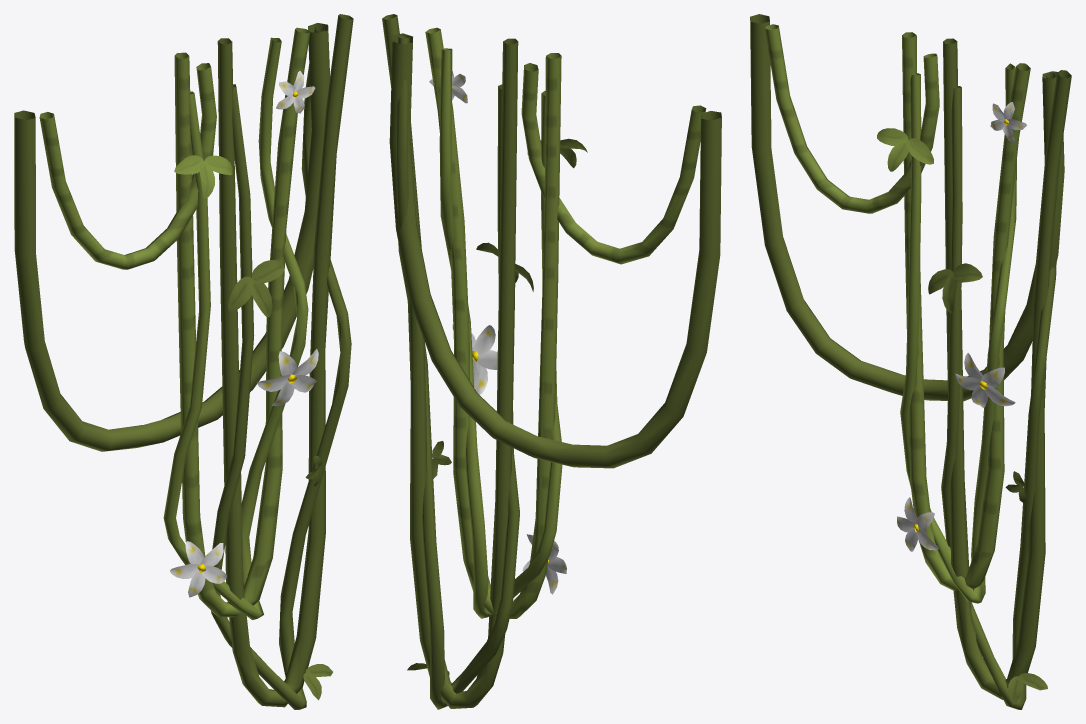
Rendered from Vine02.fbx.
3 views of the same model, side by side, from view 1: azimuth 30°, elevation 25°; view 2: azimuth 150°, elevation 25°; view 3: azimuth 330°, elevation 25° (orthographic). The views are drawn at different scales.
Visible parts, largest first — view 1: Vine02_LOD0; view 2: Vine02_LOD0; view 3: Vine02_LOD0.
Part boxes in pixels (<box>): Vine02_LOD0: <box>14,14,353,709</box>; Vine02_LOD0: <box>382,14,721,709</box>; Vine02_LOD0: <box>750,14,1071,709</box>.
Size of what is drawn, in the model's own units: 182 by 354 by 37.43.
1 material, 1 textured.
